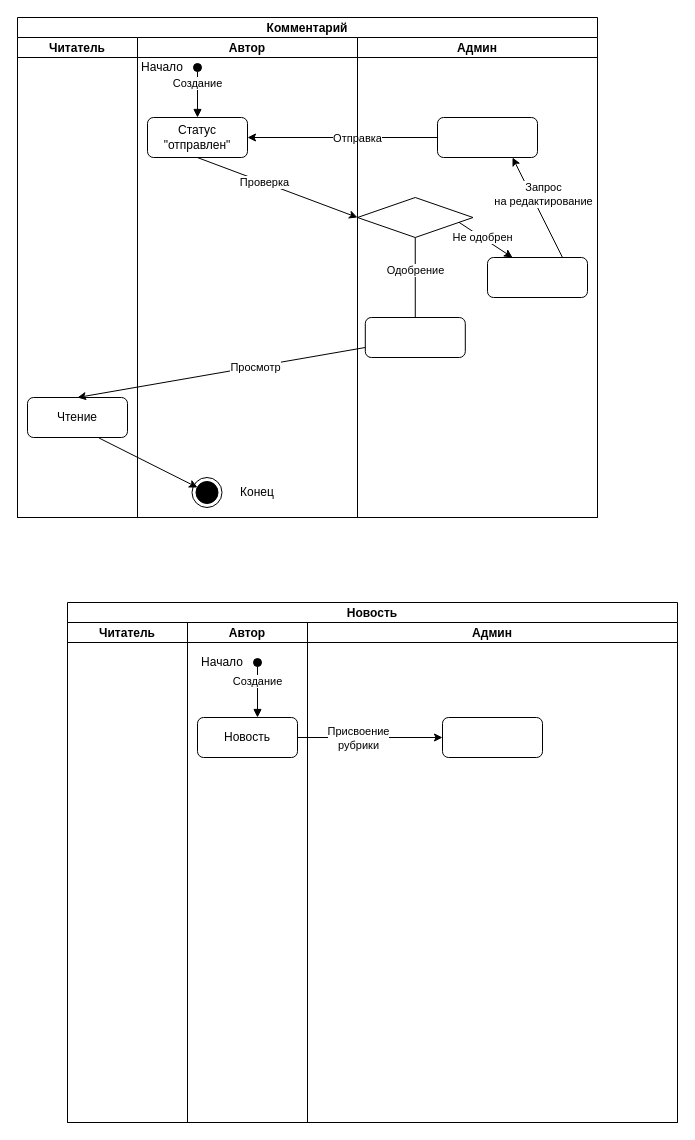
Some shapes in this 695 by 1140 pixel diagram are drawn without their labels. The box of each missing label's shape, as (x1, y1, x2, y2) in pixels:
Публикация: (364, 316, 465, 358)
Редактирование: (436, 116, 538, 158)
Рубрика: (442, 716, 542, 758)
Статус проверки: (356, 196, 473, 238)
Уведомление пользователя: (486, 256, 588, 298)
